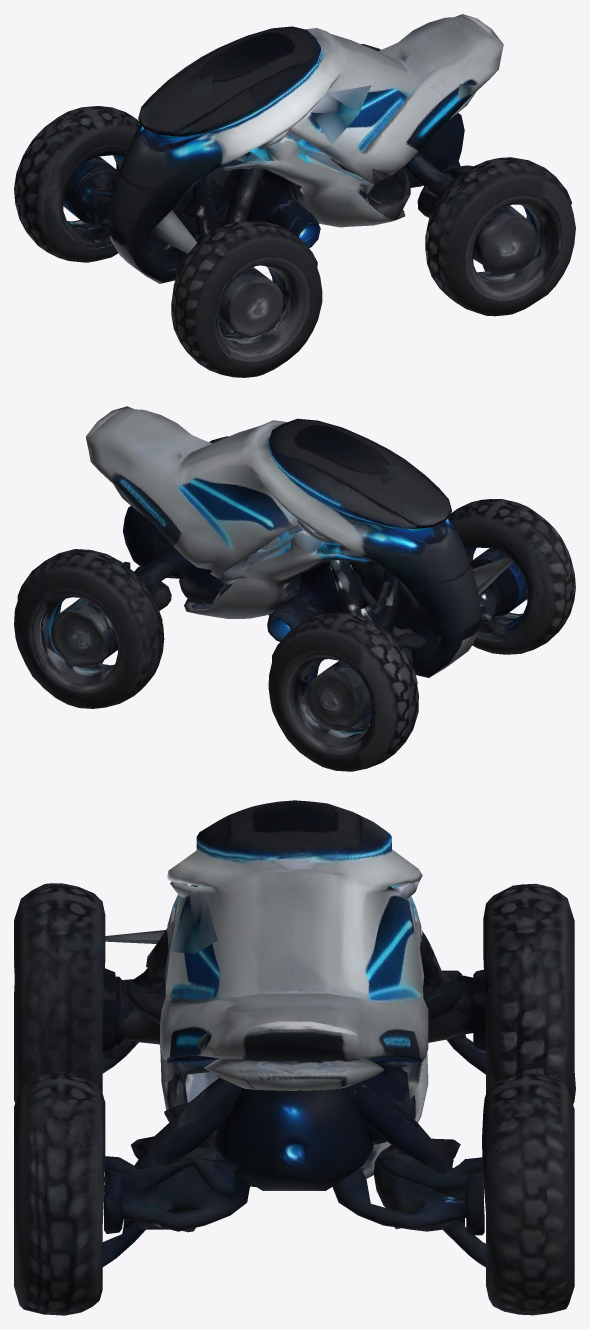
File: Robot.glb
3 views of the same model, one above another, from view 1: azimuth 30°, elevation 25°; view 2: azimuth 150°, elevation 25°; view 3: azimuth 270°, elevation 25° (orthographic). The views are drawn at different scales.
Size of the model in its own units: 1.91 by 1.15 by 1.57.
Materials: 1 (1 with a texture image).
